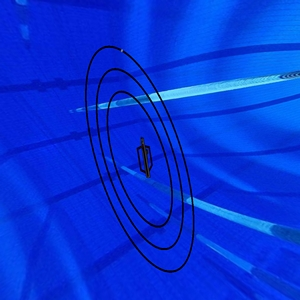circle: (81, 44, 199, 274)
submarine: (133, 136, 157, 182)
